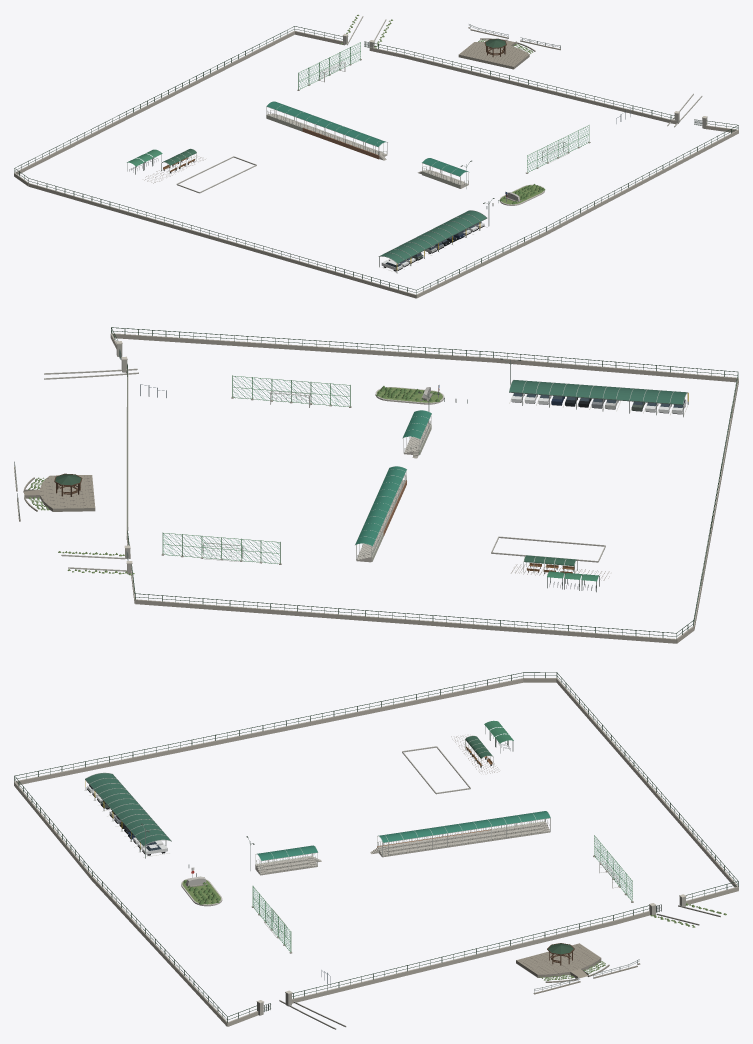
3 renders of one model, top to bottom at view 1: azimuth 30°, elevation 25°; view 2: azimuth 150°, elevation 25°; view 3: azimuth 270°, elevation 25°, orthographic. The views are drawn at different scales.
Visible parts, largest first — view 1: site-wall-concrete, site-fence, site-carport-roof, site-stand-canopy, site-pavilion-platform, site-field-backstop-mesh, site-stand-concrete, site-field-backstop-post, site-gate-curb, site-stand-railing, site-pavilion-stone; view 2: site-wall-concrete, site-fence, site-carport-roof, site-stand-canopy, site-field-backstop-mesh, site-pavilion-platform, site-gate-curb, site-field-backstop-post, site-stand-concrete; view 3: site-wall-concrete, site-fence, site-stand-concrete, site-carport-roof, site-stand-canopy, site-pavilion-platform, site-field-backstop-mesh, site-gate-curb, site-stand-post, site-pavilion-stone, site-field-backstop-post.
Boxes of the visible parts, box(x1,y1,x2,y2) form: site-wall-concrete: box(14, 31, 738, 298); site-fence: box(14, 26, 738, 294); site-carport-roof: box(380, 210, 486, 263); site-stand-canopy: box(267, 101, 468, 176); site-pavilion-platform: box(459, 40, 529, 66); site-field-backstop-mesh: box(299, 43, 588, 171); site-stand-concrete: box(267, 113, 468, 188); site-field-backstop-post: box(298, 42, 589, 172); site-gate-curb: box(176, 16, 702, 193); site-stand-railing: box(267, 110, 468, 184); site-pavilion-stone: box(458, 27, 560, 69); site-wall-concrete: box(110, 333, 738, 643); site-fence: box(111, 327, 738, 638); site-carport-roof: box(509, 380, 686, 404); site-stand-canopy: box(355, 410, 431, 546); site-field-backstop-mesh: box(163, 376, 349, 563); site-pavilion-platform: box(24, 475, 95, 508); site-gate-curb: box(44, 368, 605, 571); site-field-backstop-post: box(162, 375, 350, 563); site-stand-concrete: box(356, 424, 430, 562); site-wall-concrete: box(14, 678, 738, 1026); site-fence: box(14, 672, 738, 1022); site-stand-concrete: box(255, 822, 550, 875); site-carport-roof: box(86, 773, 170, 845); site-stand-canopy: box(257, 811, 550, 860); site-pavilion-platform: box(516, 943, 600, 978); site-field-backstop-mesh: box(253, 836, 632, 950); site-gate-curb: box(279, 746, 720, 1029); site-stand-post: box(255, 811, 550, 874); site-pavilion-stone: box(516, 958, 640, 994); site-field-backstop-post: box(252, 835, 632, 951).
Size of the model in its own units: 159 by 6.87 by 139.
